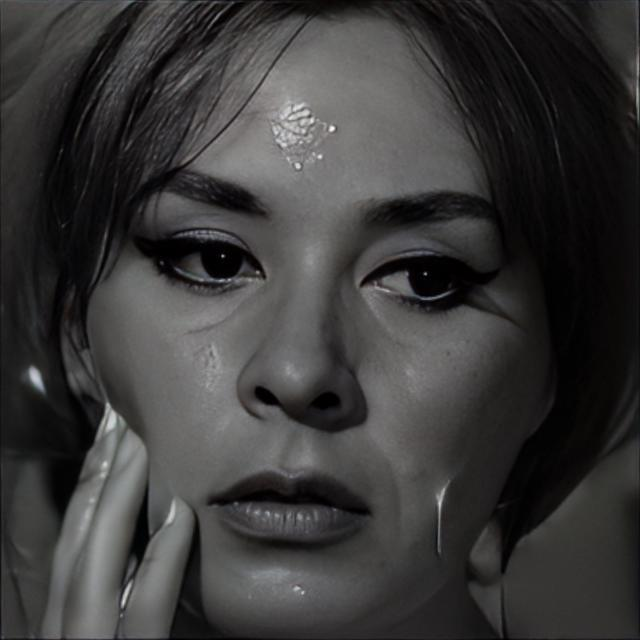sad: (84, 0, 560, 640)
